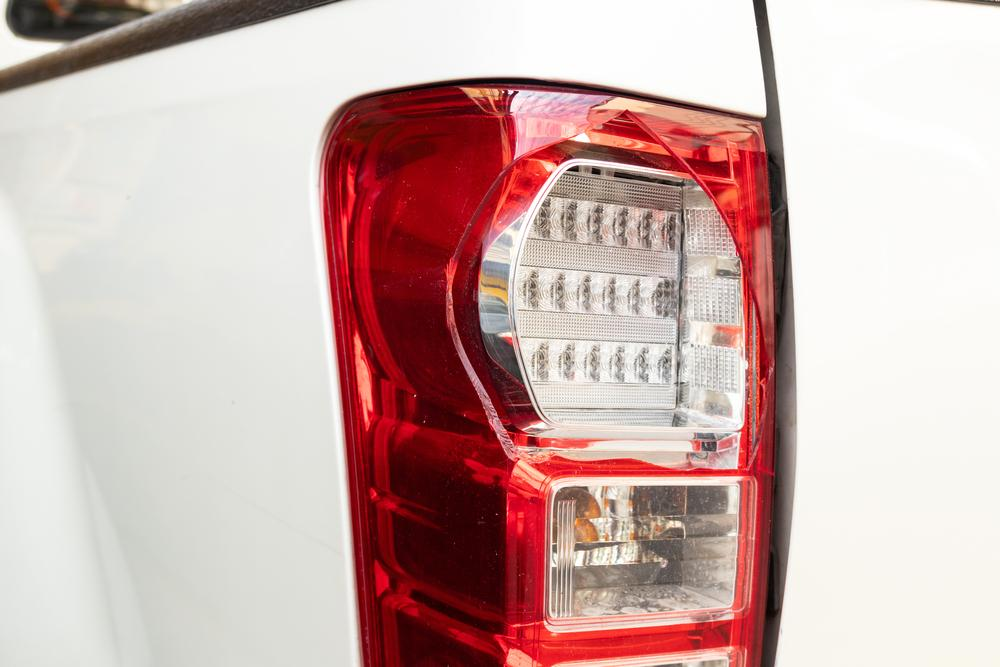lamp broken: (320, 79, 784, 667)
